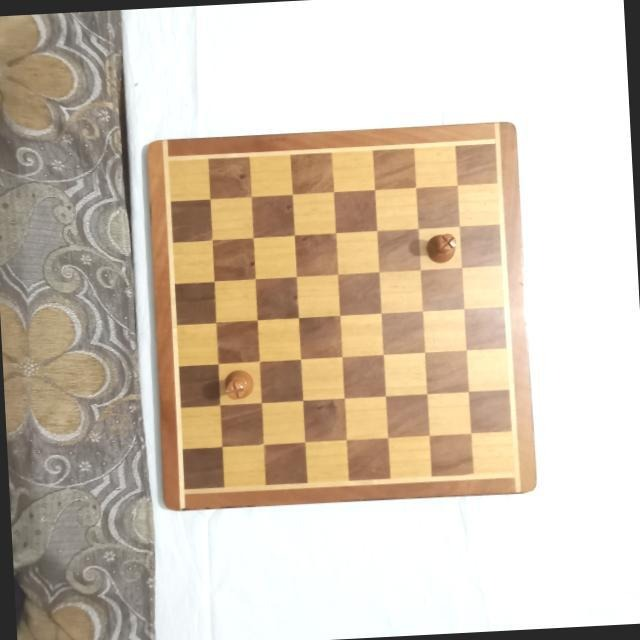white-rook: (422, 230, 459, 264), (220, 369, 256, 403)
